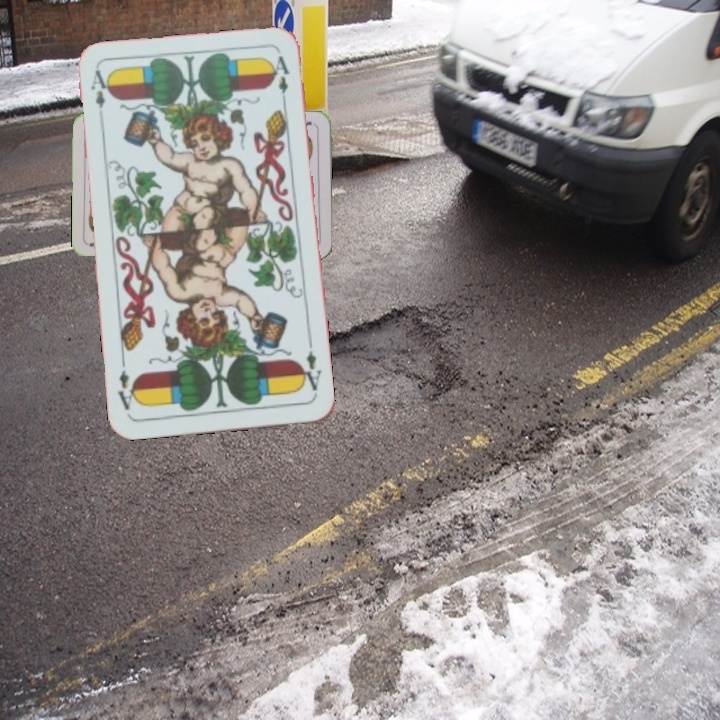EA: (296, 339, 324, 398), (86, 66, 113, 112)
